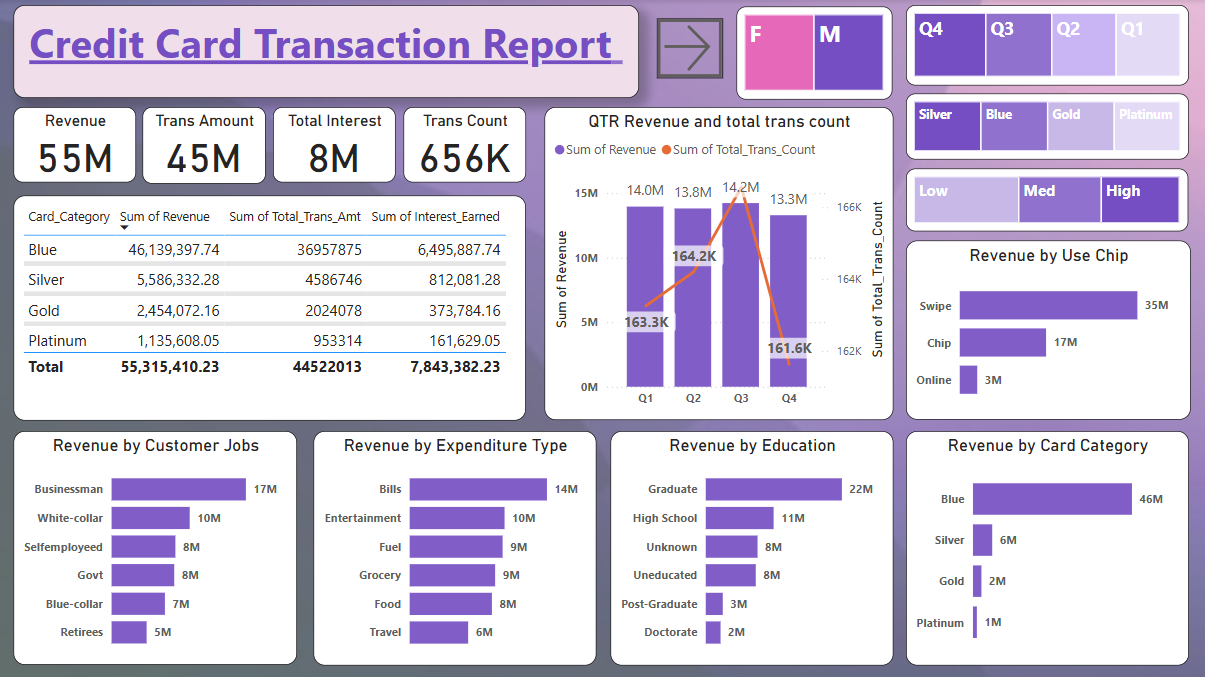

The dashboard page shown, as its layout file describes it:
{"tool":"powerbi","page":{"name":"CC Transaction","canvas":[1280,720],"ordinal":0},"visuals":[{"type":"textbox","box":[15,6.7,663.3,98.3],"z":0},{"type":"lineStackedColumnComboChart","title":"QTR Revenue and total trans count","fields":{"Category":["ccdb_p credit_card.Qtr"],"Y":["Sum(ccdb_p credit_card.Revenue)"],"Y2":["Sum(ccdb_p credit_card.Total_Trans_Vol)"]},"box":[576.7,115,370,331.7],"z":1000},{"type":"barChart","title":"Revenue by Education","fields":{"Category":["ccdb_p customer.Education_Level"],"Y":["Sum(ccdb_p credit_card.Revenue)"]},"box":[647,458.3,300,248.3],"z":2000},{"type":"barChart","title":"Revenue by Expenditure Type","fields":{"Category":["ccdb_p credit_card.Exp Type"],"Y":["Sum(ccdb_p credit_card.Revenue)"]},"box":[332,458,300,248.3],"z":3000},{"type":"barChart","title":"Revenue by Customer Jobs","fields":{"Category":["ccdb_p customer.Customer_Job"],"Y":["Sum(ccdb_p credit_card.Revenue)"]},"box":[14.3,458.1,300.6,248.1],"z":4000},{"type":"barChart","title":"Revenue by Card Category","fields":{"Category":["ccdb_p credit_card.Card_Category"],"Y":["Sum(ccdb_p credit_card.Revenue)"]},"box":[960,458.3,300,248.3],"z":5000},{"type":"barChart","title":"Revenue by Use Chip","fields":{"Category":["ccdb_p credit_card.Use Chip"],"Y":["Sum(ccdb_p credit_card.Revenue)"]},"box":[960,256.7,301.7,190],"z":6000},{"type":"tableEx","fields":{"Values":["ccdb_p credit_card.Card_Category","Sum(ccdb_p credit_card.Revenue)","Sum(ccdb_p credit_card.Total_Trans_Amt)","Sum(ccdb_p credit_card.Interest_Earned)"]},"box":[15,208.3,543.3,238.3],"z":7000},{"type":"card","title":"Revenue","fields":{"Values":["Sum(ccdb_p credit_card.Revenue)"]},"box":[15,115,130,80],"z":8000},{"type":"card","title":"Trans Amount","fields":{"Values":["Sum(ccdb_p credit_card.Total_Trans_Amt)"]},"box":[151,115,130.4,81.1],"z":9000},{"type":"card","title":"Total Interest","fields":{"Values":["Sum(ccdb_p credit_card.Interest_Earned)"]},"box":[290,115,130,80],"z":10000},{"type":"card","title":"Trans Count","fields":{"Values":["Sum(ccdb_p credit_card.Total_Trans_Count)"]},"box":[428.3,115,130,80],"z":11000},{"type":"treemap","fields":{"Group":["ccdb_p credit_card.Qtr"],"Values":["Avg(ccdb_p credit_card.ï»¿Client_Num)"]},"box":[960,6.7,300,85],"z":12000},{"type":"treemap","fields":{"Values":["Avg(ccdb_p credit_card.ï»¿Client_Num)"],"Group":["ccdb_p customer.Gender"]},"box":[781.7,8.3,165,98.3],"z":13000},{"type":"treemap","fields":{"Values":["Avg(ccdb_p credit_card.ï»¿Client_Num)"],"Group":["ccdb_p credit_card.Card_Category"]},"box":[960,100,300,70],"z":14000},{"type":"treemap","fields":{"Values":["CountNonNull(ccdb_p credit_card.ï»¿Client_Num)"],"Group":["ccdb_p customer.IncomeGroup"]},"box":[960.7,180,299,66.8],"z":15000},{"type":"actionButton","box":[696,20,70,63.3],"z":15500}]}

Visuals, with their boxes in screenshot pixels (x1, y1, x2, y2), scaled from the page's 1280x720 canvas onto the 1205x677 screenshot:
textbox: bbox=[14, 6, 639, 99]
"QTR Revenue and total trans count" lineStackedColumnComboChart: bbox=[543, 108, 891, 420]
"Revenue by Education" barChart: bbox=[609, 431, 892, 664]
"Revenue by Expenditure Type" barChart: bbox=[313, 431, 595, 664]
"Revenue by Customer Jobs" barChart: bbox=[13, 431, 296, 664]
"Revenue by Card Category" barChart: bbox=[904, 431, 1186, 664]
"Revenue by Use Chip" barChart: bbox=[904, 241, 1188, 420]
tableEx - ccdb_p credit_card.Card_Category x Sum(ccdb_p credit_card.Revenue): bbox=[14, 196, 526, 420]
"Revenue" card: bbox=[14, 108, 137, 183]
"Trans Amount" card: bbox=[142, 108, 265, 184]
"Total Interest" card: bbox=[273, 108, 395, 183]
"Trans Count" card: bbox=[403, 108, 526, 183]
treemap - ccdb_p credit_card.Qtr x Avg(ccdb_p credit_card.ï»¿Client_Num): bbox=[904, 6, 1186, 86]
treemap - Avg(ccdb_p credit_card.ï»¿Client_Num) x ccdb_p customer.Gender: bbox=[736, 8, 891, 100]
treemap - Avg(ccdb_p credit_card.ï»¿Client_Num) x ccdb_p credit_card.Card_Category: bbox=[904, 94, 1186, 160]
treemap - CountNonNull(ccdb_p credit_card.ï»¿Client_Num) x ccdb_p customer.IncomeGroup: bbox=[904, 169, 1186, 232]
actionButton: bbox=[655, 19, 721, 78]
